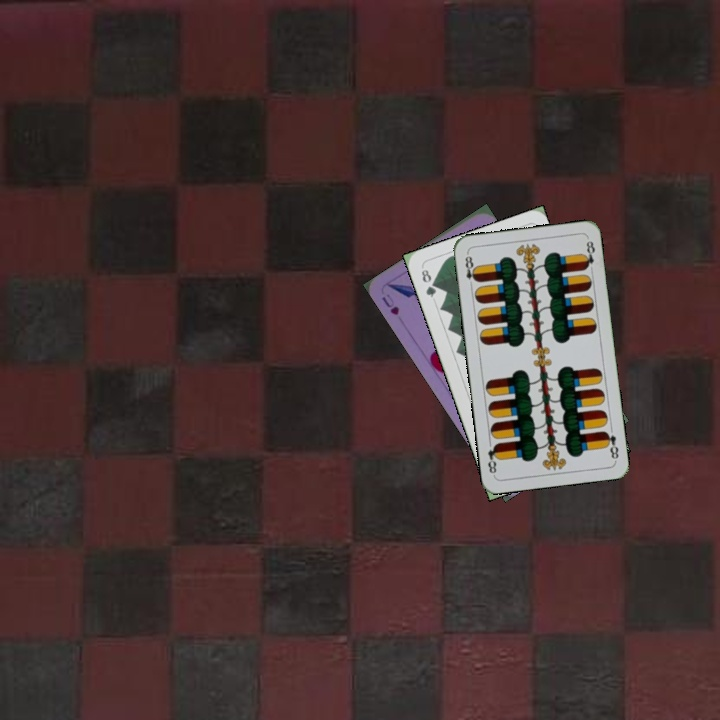E8: (461, 250, 480, 290), (600, 427, 621, 463)
G8: (417, 265, 439, 300)
HU: (377, 290, 402, 318)
